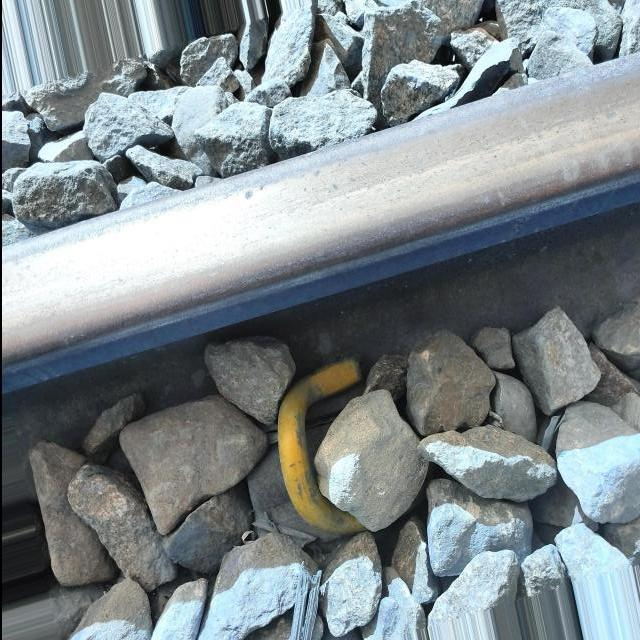broken_rail_medium: (300, 168, 357, 193), (242, 185, 264, 201), (602, 111, 616, 123)
